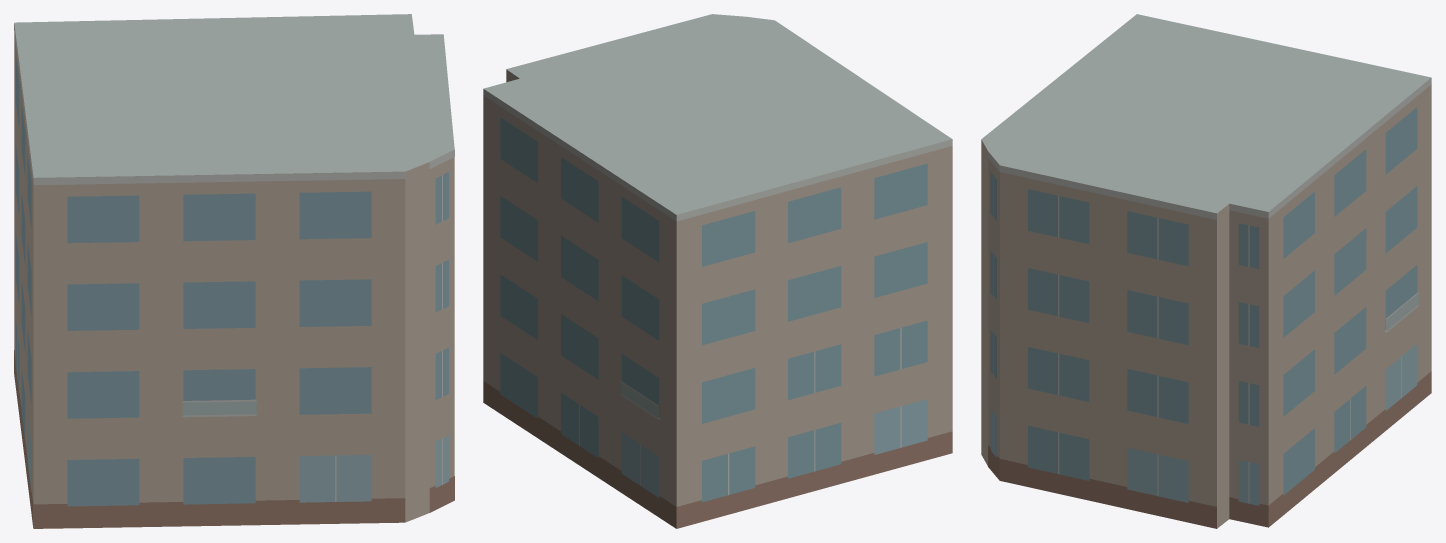
Rendered from survey-upis-32819173.glb.
The picture shows the model from 3 angles, left to right: view 1: azimuth 30°, elevation 25°; view 2: azimuth 150°, elevation 25°; view 3: azimuth 270°, elevation 25°; orthographic projection. The views are drawn at different scales.
Parts seen in each view (by area): view 1: survey-upis-32819173.tmp; view 2: survey-upis-32819173.tmp; view 3: survey-upis-32819173.tmp.
Part boxes in pixels (bbox=[...]): survey-upis-32819173.tmp: bbox=[14, 14, 454, 528]; survey-upis-32819173.tmp: bbox=[483, 14, 952, 528]; survey-upis-32819173.tmp: bbox=[981, 14, 1431, 528].
Bounding box in the file's own units: 15.74 × 11.6 × 15.02.
